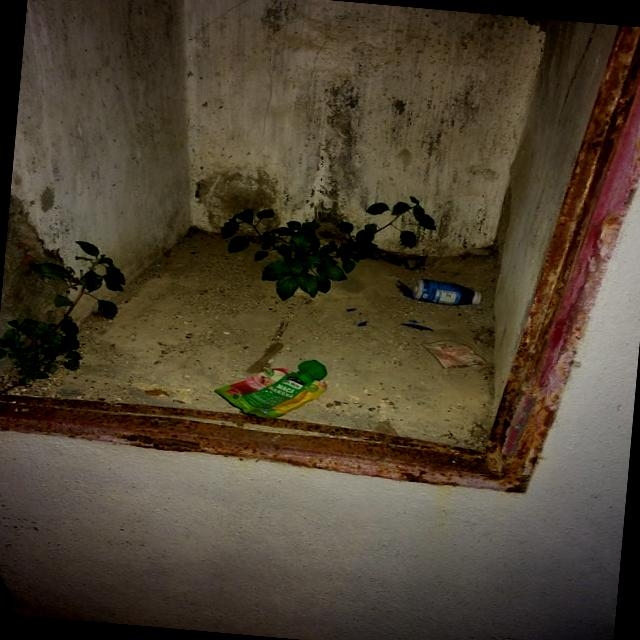Recycle: (408, 275, 488, 310)
Trash: (212, 351, 334, 424)
